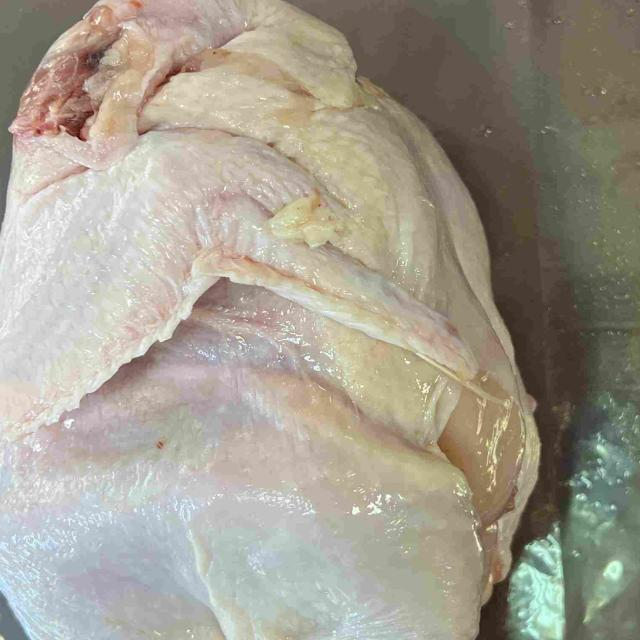leg: (122, 415, 486, 640)
neck: (14, 0, 357, 164)
wing: (0, 131, 469, 424)
